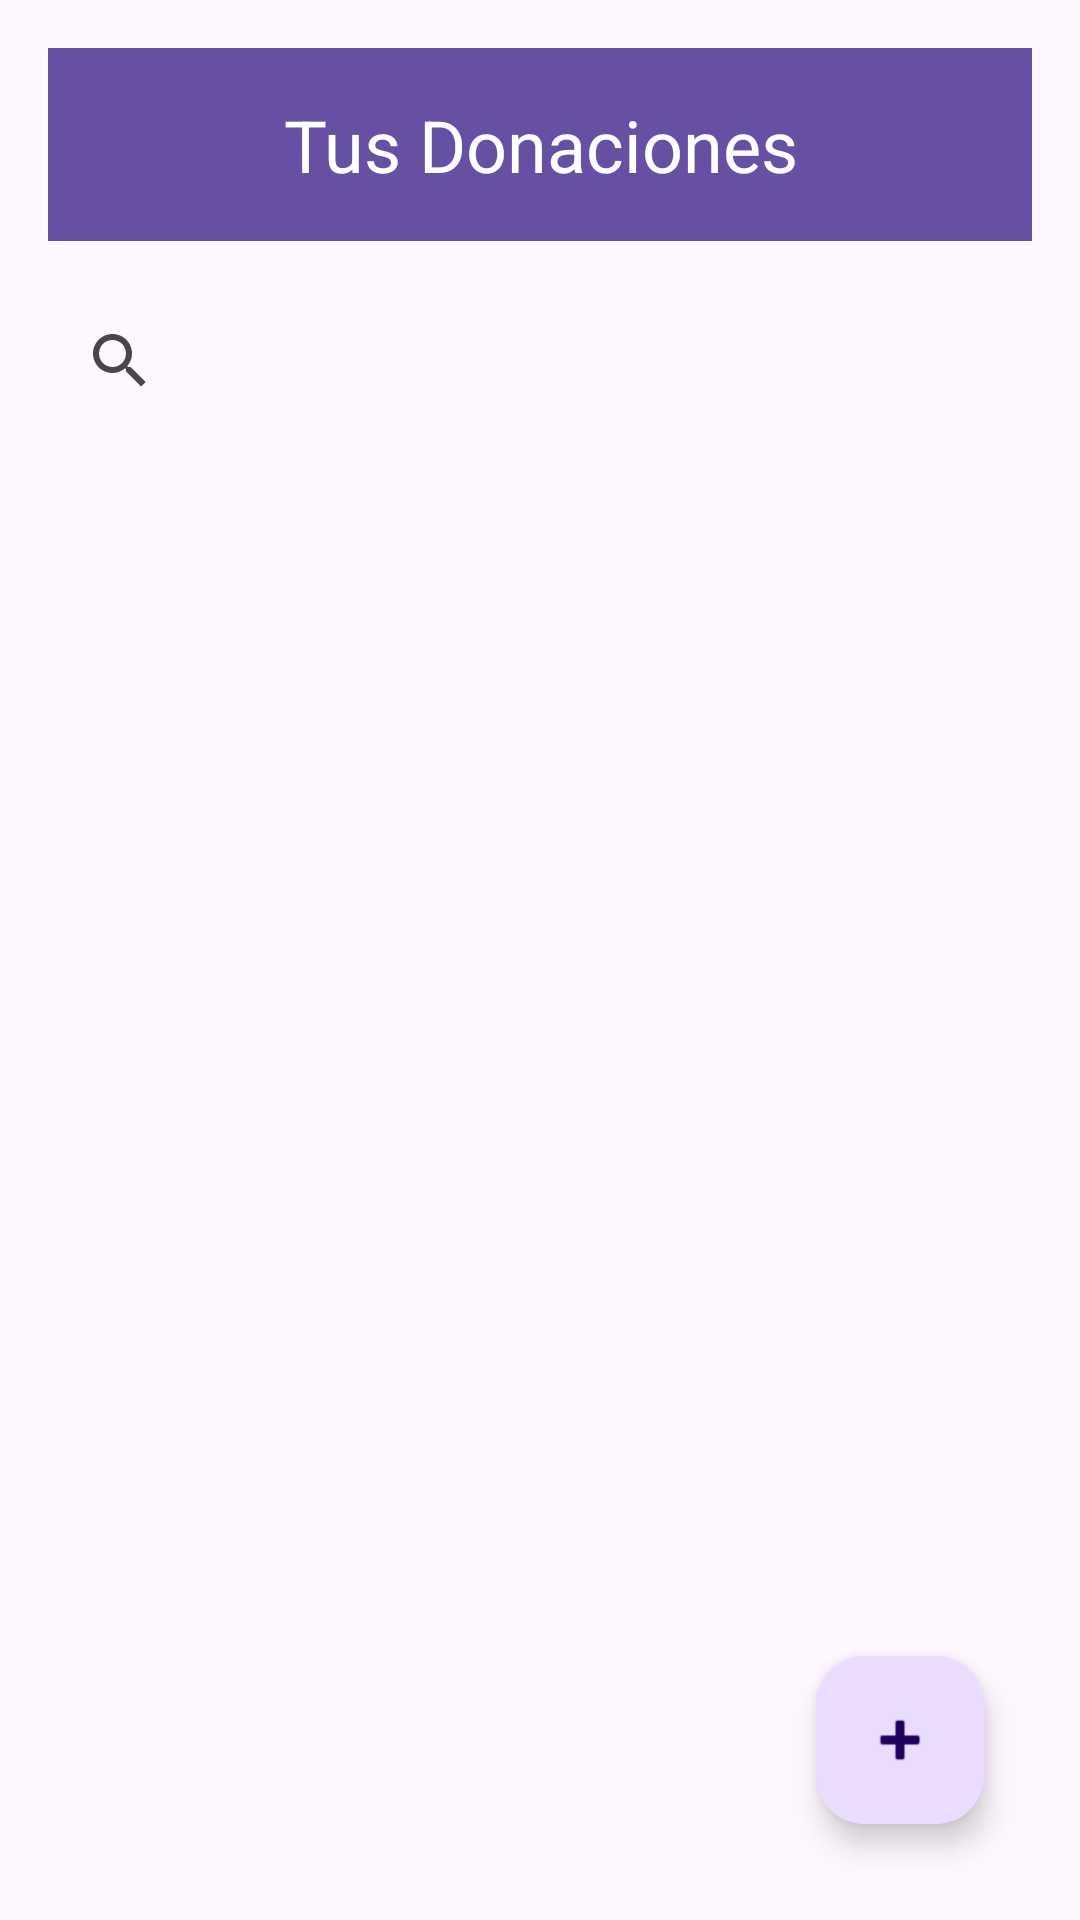

Screen size 1080×1920. Icon name, then its box in pixels as (x1, y1, x2, y2):
Agregar donación: (816, 1656, 984, 1824)
